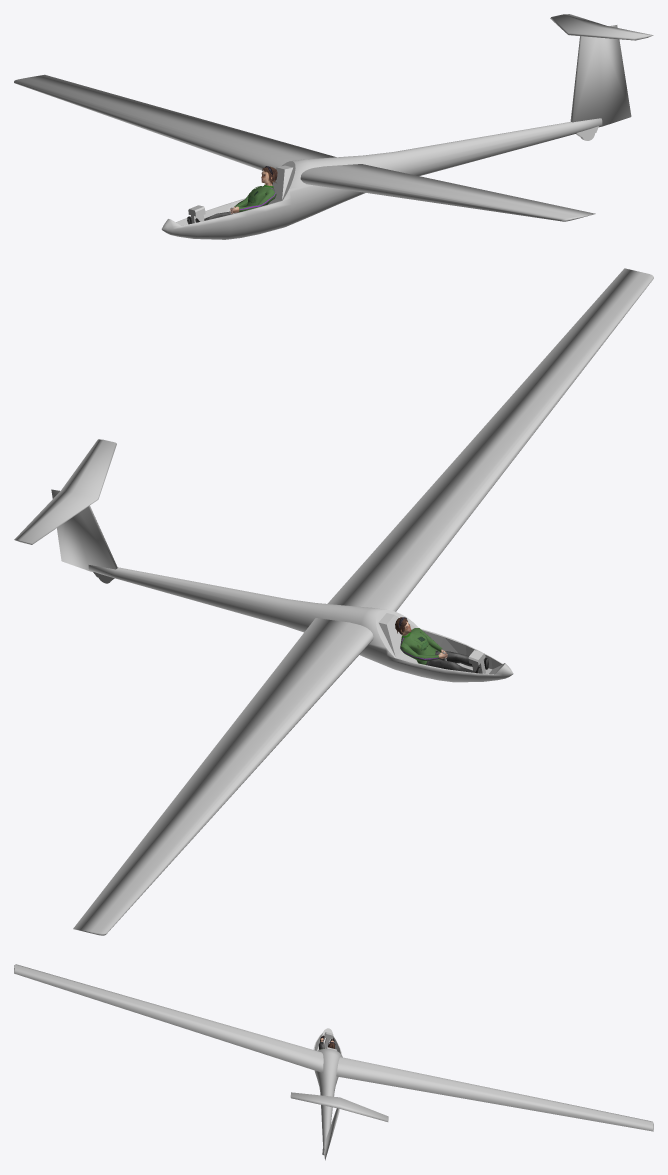
File: glider-blue-ridge-cbj_LOD00.gltf
The picture shows the model from 3 angles, top to bottom: view 1: azimuth 30°, elevation 25°; view 2: azimuth 150°, elevation 25°; view 3: azimuth 270°, elevation 25°; orthographic projection. The views are drawn at different scales.
Visible parts, largest first — view 1: glider00; view 2: glider00; view 3: glider00.
Part boxes in pixels (x1,y1,x2,y2): glider00: (14,14,653,239); glider00: (14,268,653,935); glider00: (14,964,653,1160).
Size of what is drawn, in the model's own units: 7 by 3.93 by 14.53.
